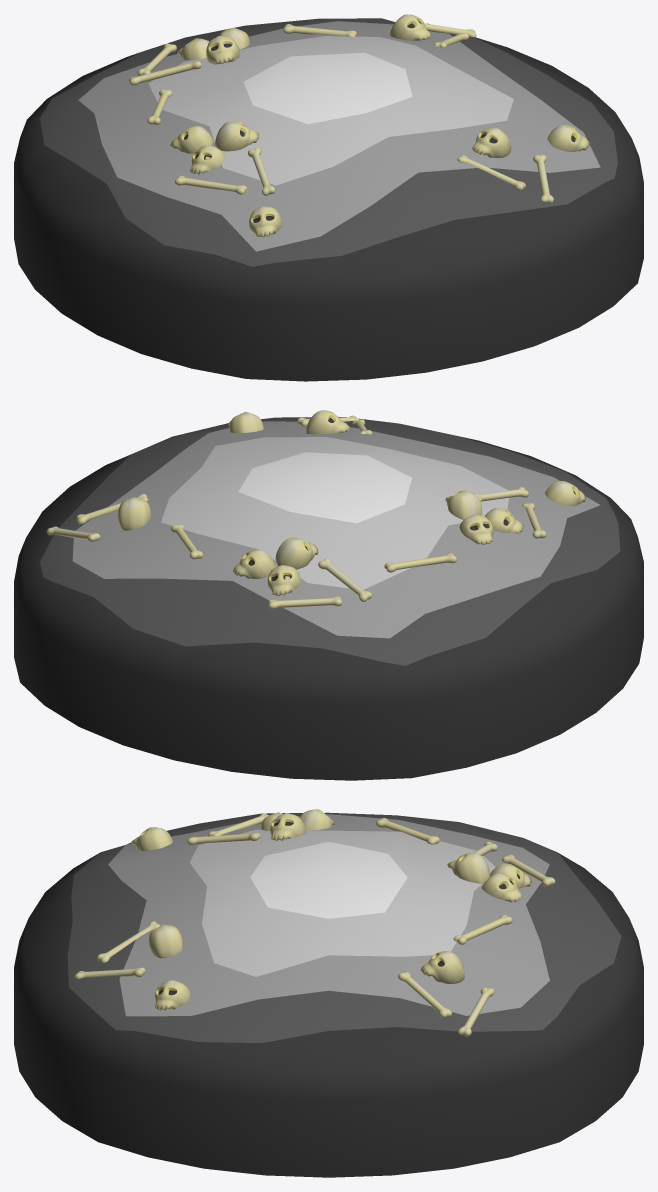
The model's file is World 01.fbx.
3 renders of one model, top to bottom at view 1: azimuth 30°, elevation 25°; view 2: azimuth 150°, elevation 25°; view 3: azimuth 270°, elevation 25°, orthographic. The views are drawn at different scales.
Visible parts, largest first — view 1: Plane.001; view 2: Plane.001; view 3: Plane.001.
Boxes of the visible parts, bbox=[...] form: Plane.001: bbox=[14, 14, 643, 381]; Plane.001: bbox=[14, 410, 643, 780]; Plane.001: bbox=[14, 809, 643, 1177].
Size of the model in its own units: 27.63 by 8.4 by 27.63.
